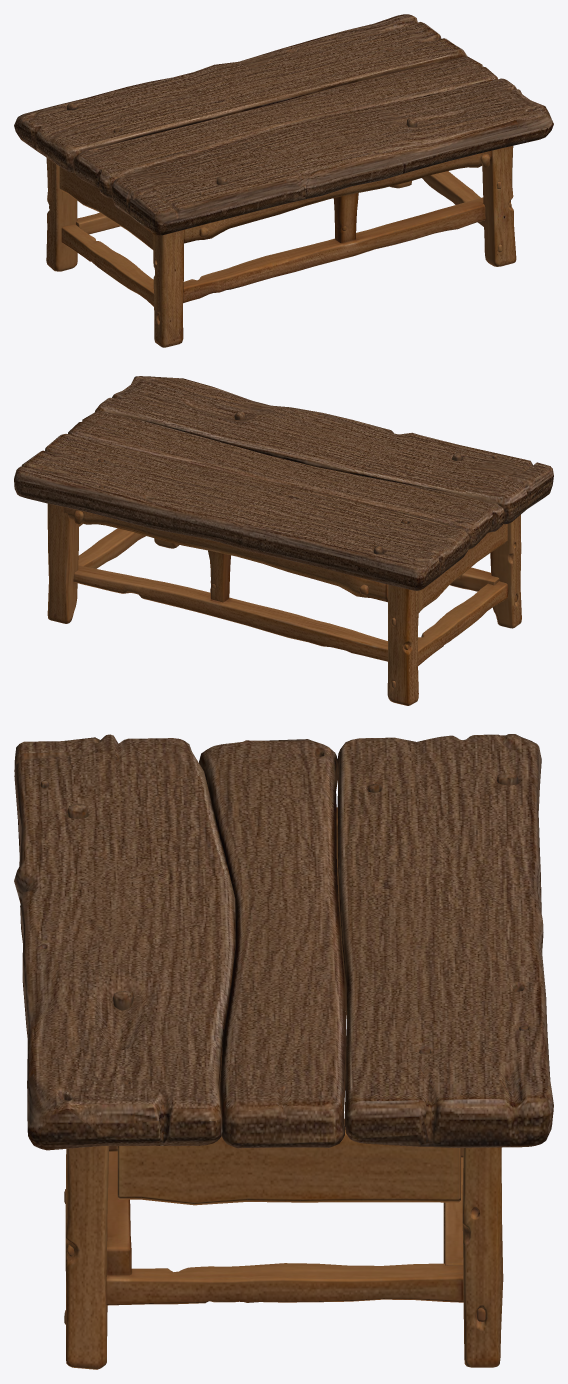
The model's file is coffee_table.glb.
The picture shows the model from 3 angles, top to bottom: view 1: azimuth 30°, elevation 25°; view 2: azimuth 150°, elevation 25°; view 3: azimuth 270°, elevation 25°; orthographic projection. The views are drawn at different scales.
Parts seen in each view (by area): view 1: coffee_table / mesh; view 2: coffee_table / mesh; view 3: coffee_table / mesh.
Part boxes in pixels (box(x1,y1,x2,y2)): coffee_table / mesh: box(14, 14, 553, 347); coffee_table / mesh: box(14, 376, 553, 705); coffee_table / mesh: box(14, 734, 553, 1369).
Size of the model in its own units: 1.15 by 0.42 by 0.6938.
1 material, 1 textured.
